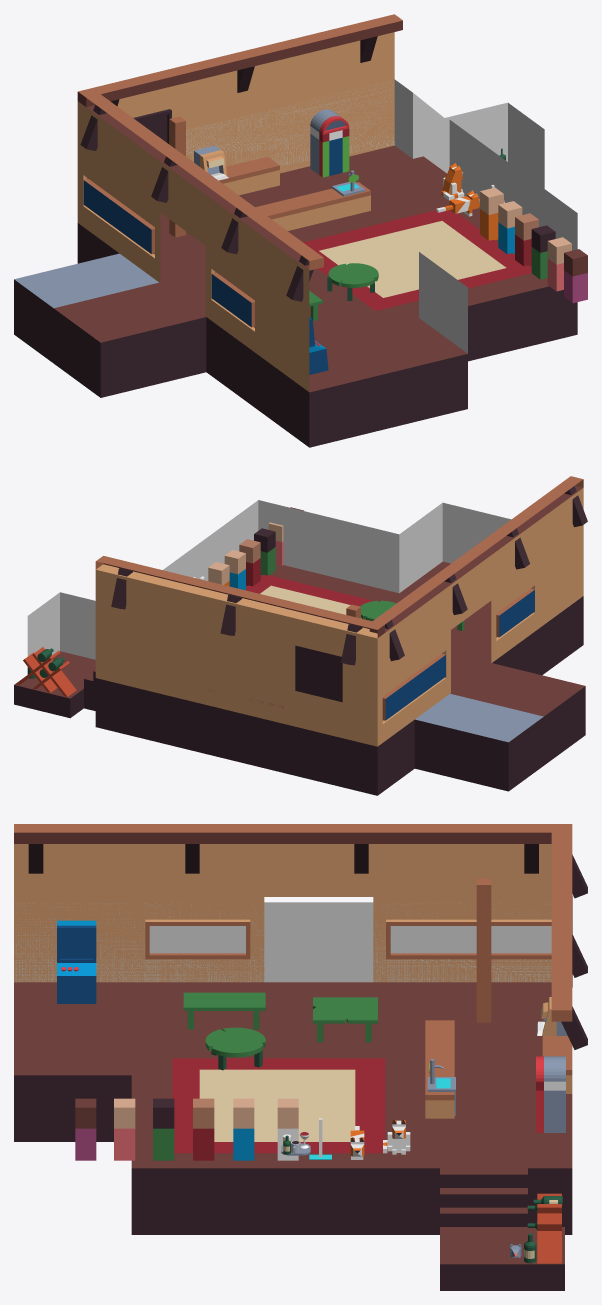
File: honest_jam.glb
3 renders of one model, top to bottom at view 1: azimuth 30°, elevation 25°; view 2: azimuth 150°, elevation 25°; view 3: azimuth 270°, elevation 25°, orthographic. The views are drawn at different scales.
Parts seen in each view (by area): view 1: Floor, Walls, InvisibleWall, Carpet, Bar, Jukebox, RoundTable, Customer_4, Player, Customer_3, Customer_2, Customer_0 (+6 smaller); view 2: Walls, Floor, InvisibleWall, Basement, PictureFrame1, Carpet, WineRack, Customer_2, Customer_1, Customer_0, RoundTable, Player (+1 smaller); view 3: Floor, Walls, InvisibleWall, Carpet, Basement, Bar, Arcade, Post, Jukebox, WineRack, Table, LongTable (+10 smaller).
Boxes of the visible parts, <box> form: Floor: <box>14,145,577,447</box>; Walls: <box>77,14,402,391</box>; InvisibleWall: <box>186,79,577,353</box>; Carpet: <box>303,210,531,310</box>; Bar: <box>219,156,370,230</box>; Jukebox: <box>310,109,349,177</box>; RoundTable: <box>327,263,378,300</box>; Customer_4: <box>564,249,587,303</box>; Player: <box>480,187,503,240</box>; Customer_3: <box>547,237,571,291</box>; Customer_2: <box>531,225,555,279</box>; Customer_0: <box>498,201,522,254</box>; Walls: <box>95,476,587,746</box>; Floor: <box>95,561,585,795</box>; InvisibleWall: <box>27,500,510,659</box>; Basement: <box>14,651,95,718</box>; PictureFrame1: <box>295,645,342,702</box>; Carpet: <box>246,574,373,618</box>; WineRack: <box>16,647,76,696</box>; Customer_2: <box>254,528,275,575</box>; Customer_1: <box>239,539,260,586</box>; Customer_0: <box>224,550,245,590</box>; RoundTable: <box>360,600,396,621</box>; Player: <box>208,562,229,586</box>; Floor: <box>14,982,572,1234</box>; Walls: <box>14,824,587,1049</box>; InvisibleWall: <box>14,902,551,982</box>; Carpet: <box>172,1058,385,1153</box>; Basement: <box>440,1168,564,1290</box>; Bar: <box>425,1020,572,1118</box>; Arcade: <box>57,920,96,1003</box>; Post: <box>476,878,491,1022</box>; Jukebox: <box>536,1056,565,1132</box>; WineRack: <box>524,1193,562,1263</box>; Table: <box>313,997,377,1042</box>; LongTable: <box>183,992,265,1029</box>.
Size of the model in its own units: 49 by 16.88 by 39.08.
Materials: 1 (1 with a texture image).
